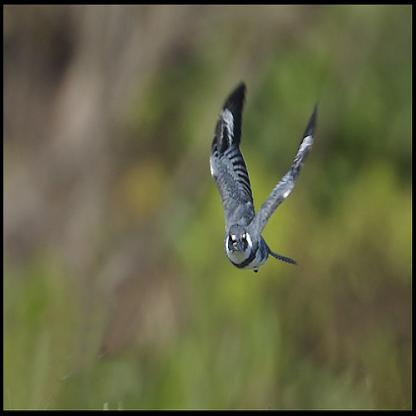bird: (207, 81, 323, 279)
